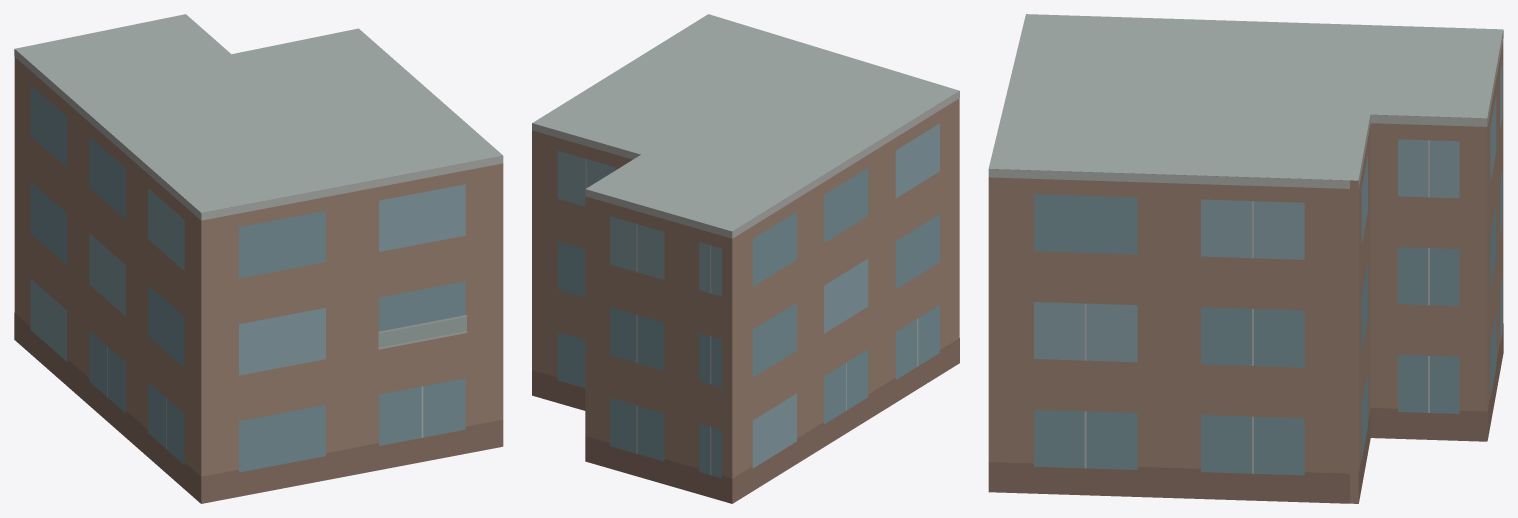
Rendered from survey-upis-32880678.glb.
3 renders of one model, left to right at view 1: azimuth 30°, elevation 25°; view 2: azimuth 150°, elevation 25°; view 3: azimuth 270°, elevation 25°, orthographic. The views are drawn at different scales.
Visible parts, largest first — view 1: survey-upis-32880678.tmp; view 2: survey-upis-32880678.tmp; view 3: survey-upis-32880678.tmp.
Boxes of the visible parts, left/top/right/bottom form: survey-upis-32880678.tmp: left=14, top=14, right=503, bottom=503; survey-upis-32880678.tmp: left=532, top=14, right=959, bottom=503; survey-upis-32880678.tmp: left=988, top=14, right=1503, bottom=503.
Size of the model in its own units: 10.12 by 9.15 by 13.22.
